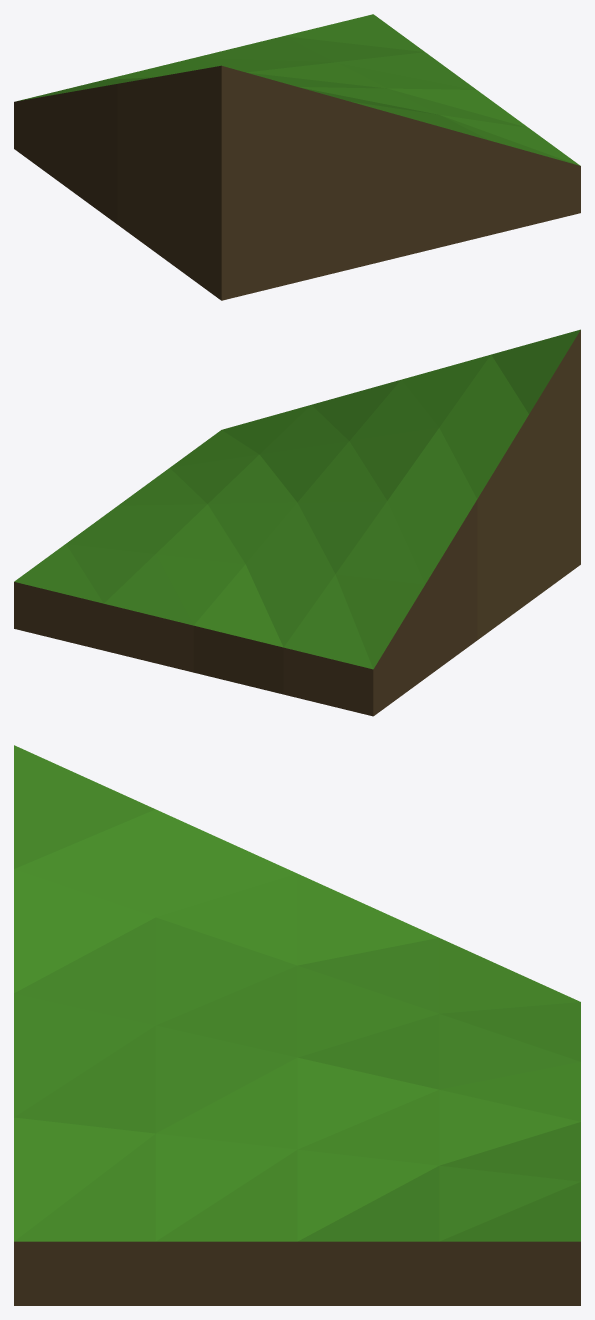
Rendered from T03_Ground_Corner_2m.fbx.
3 renders of one model, top to bottom at view 1: azimuth 30°, elevation 25°; view 2: azimuth 150°, elevation 25°; view 3: azimuth 270°, elevation 25°, orthographic. The views are drawn at different scales.
Visible parts, largest first — view 1: T03_Ground_Corner_2m; view 2: T03_Ground_Corner_2m; view 3: T03_Ground_Corner_2m.
Part boxes in pixels (box(x1,y1,x2,y2)): T03_Ground_Corner_2m: box(14, 14, 580, 300); T03_Ground_Corner_2m: box(14, 329, 580, 716); T03_Ground_Corner_2m: box(14, 745, 580, 1305).
Bounding box in the file's own units: 2 × 1.25 × 2.
2 materials, 2 textured.
